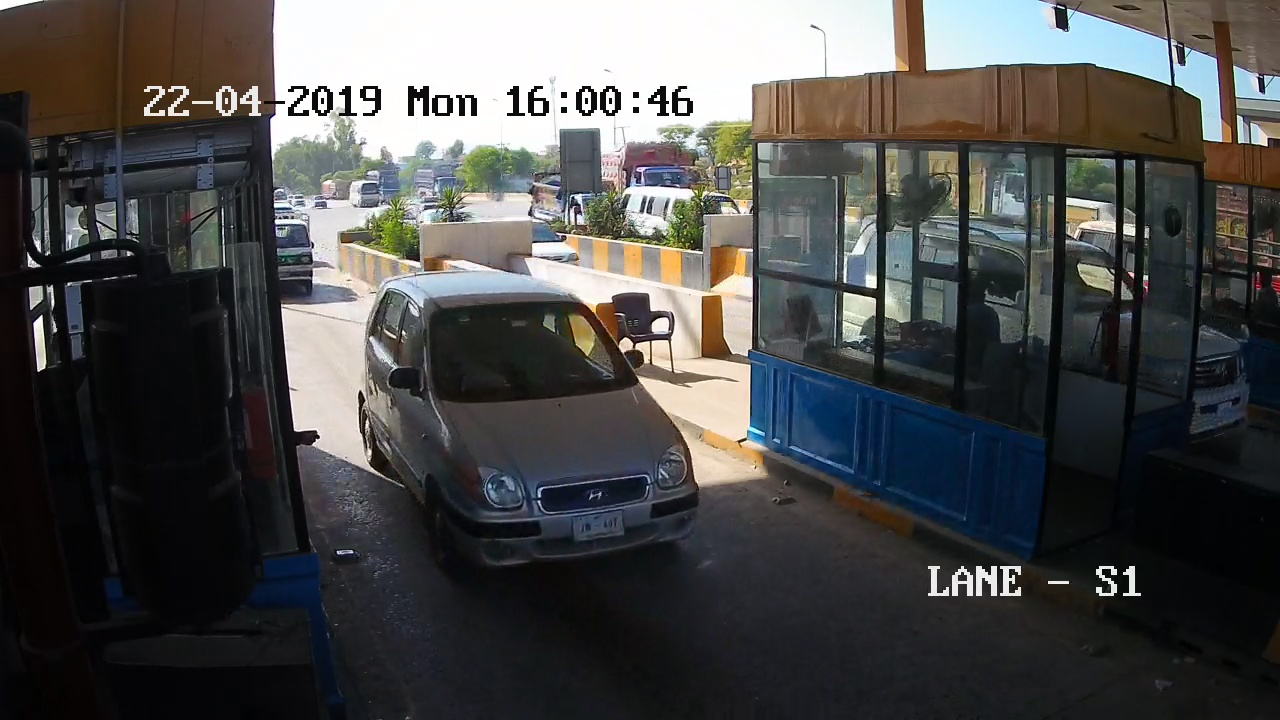car: (343, 270, 760, 598)
